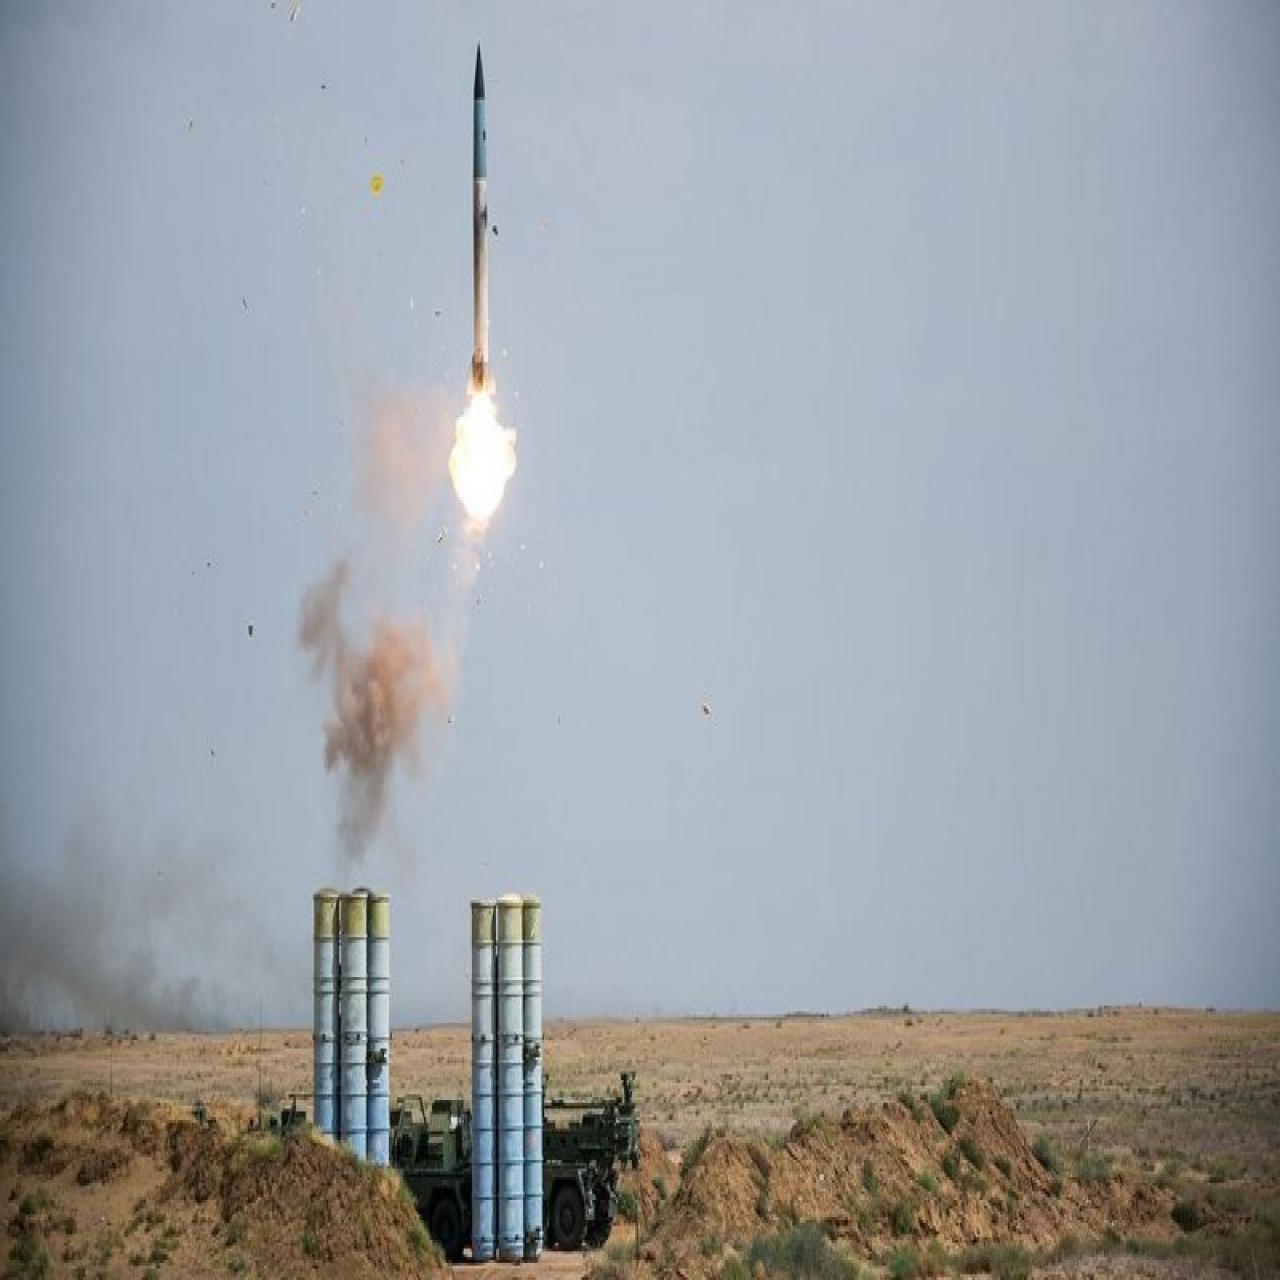MIL_Veh: (393, 900, 545, 1276), (300, 891, 393, 1189)
